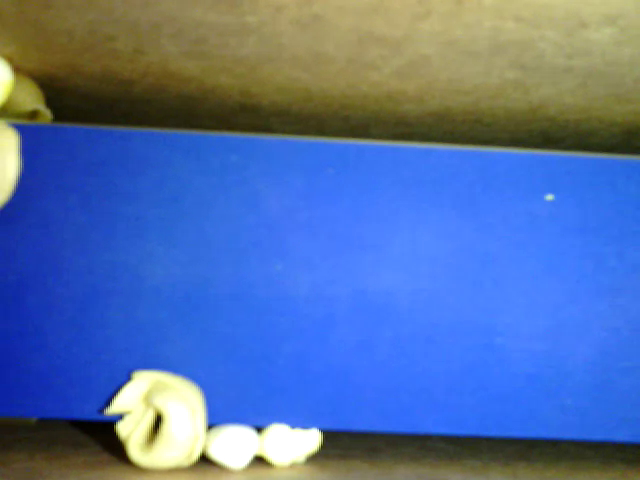shell: (3, 72, 60, 125)
tortellini: (104, 362, 208, 468)
